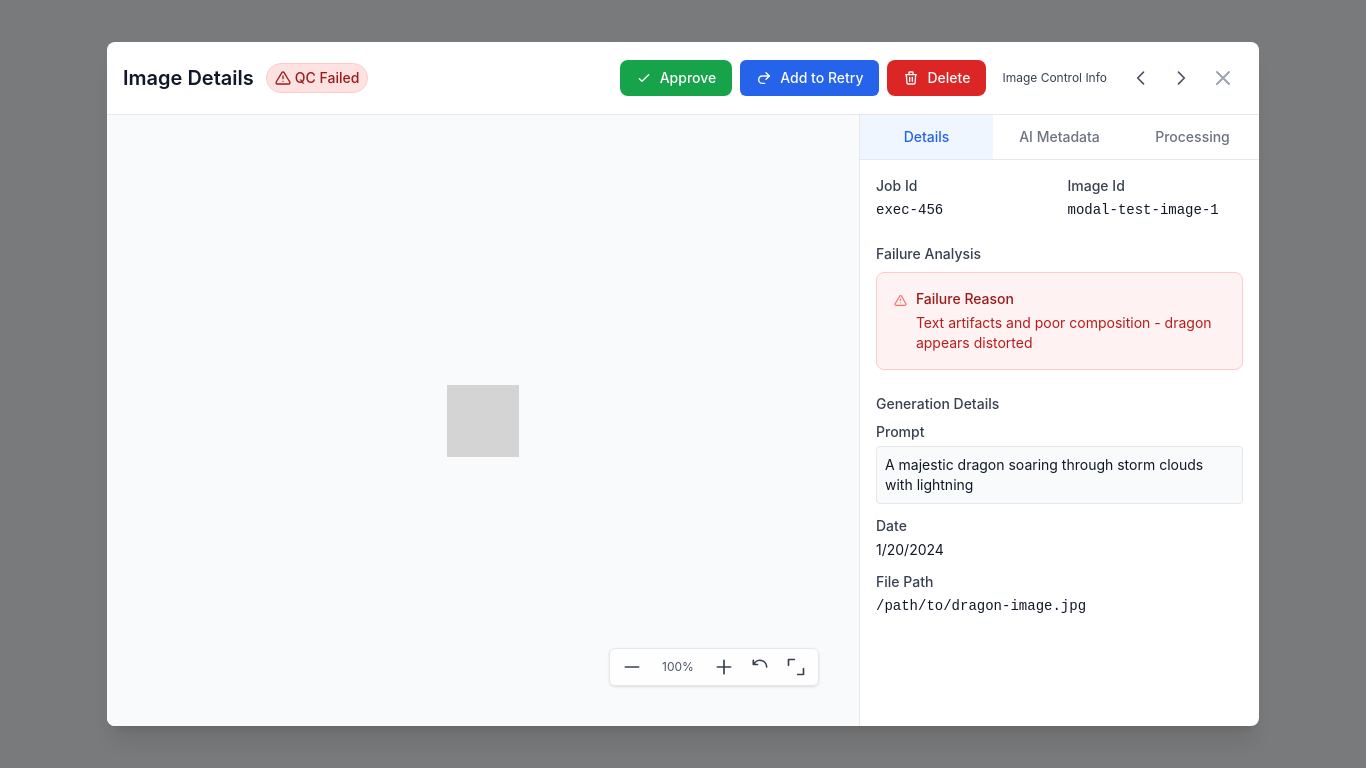
Test: FailedImageReviewModal › Processing Settings Section › shows image enhancement settings
This screenshot has width=1366, height=768.
// Click on Processing tab first
Click the button "Processing".
click(1192, 137)  # box [1126,115,1259,159]
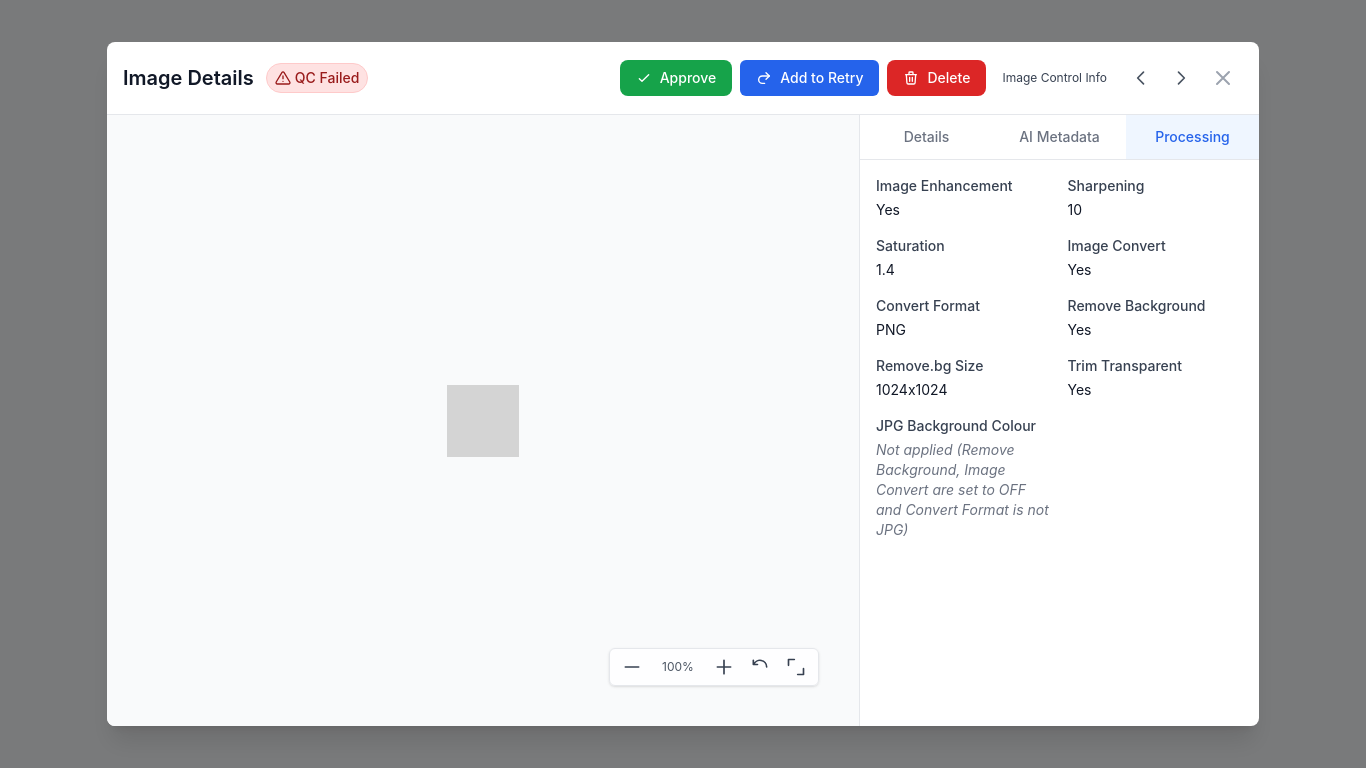
Expected: the text "Image Enhancement" is shown, [876,177,1013,194]
Expected: the text "Yes" below "Image Enhancement" is shown, [876,201,900,218]
Expected: the text "Sharpening" is shown, [1068,177,1144,194]
